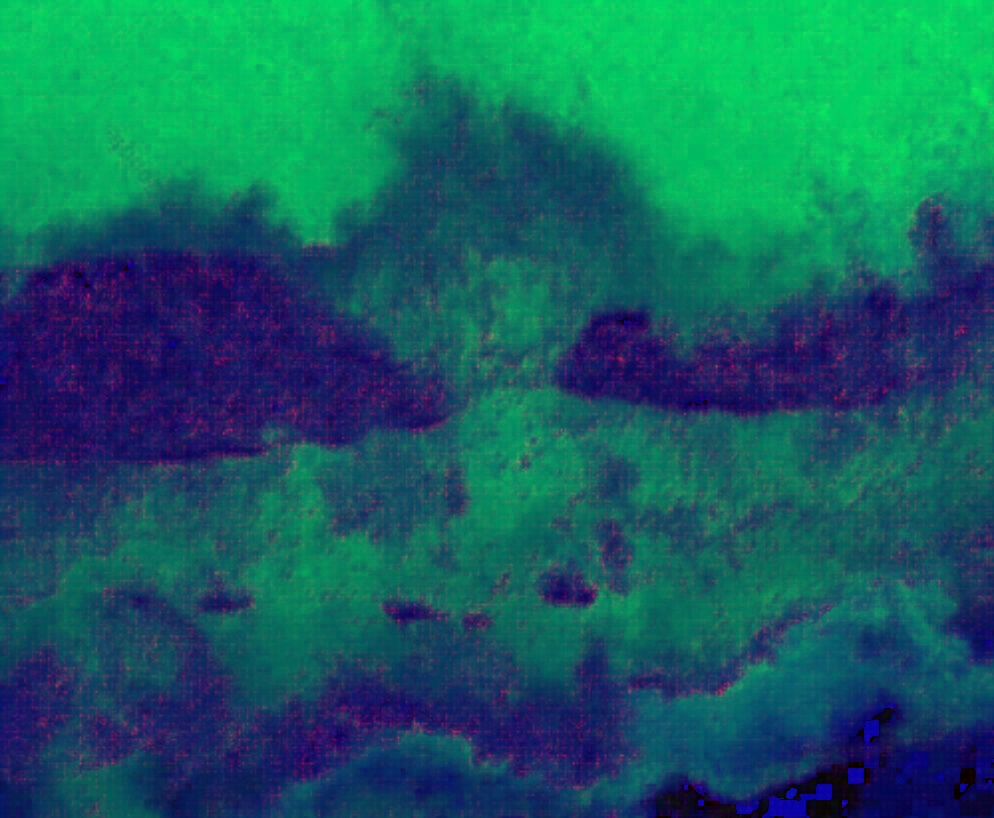rip_current: (352, 47, 680, 685)
